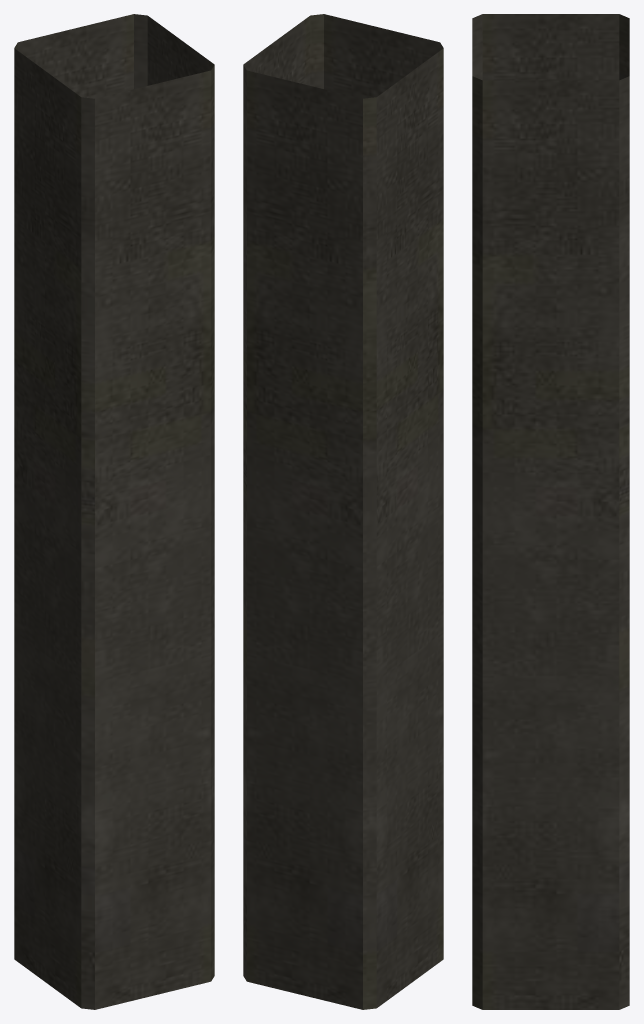
The model's file is pillar_1_plain.dae.
The picture shows the model from 3 angles, left to right: view 1: azimuth 30°, elevation 25°; view 2: azimuth 150°, elevation 25°; view 3: azimuth 270°, elevation 25°; orthographic projection. The views are drawn at different scales.
Parts seen in each view (by area): view 1: pillar_1_plain; view 2: pillar_1_plain; view 3: pillar_1_plain.
Boxes of the visible parts, x1=… form: pillar_1_plain: x1=14, y1=14, x2=214, y2=1009; pillar_1_plain: x1=243, y1=14, x2=443, y2=1009; pillar_1_plain: x1=472, y1=14, x2=629, y2=1009.
Size of the model in its own units: 0.46 by 0.46 by 3.
1 material, 1 textured.
